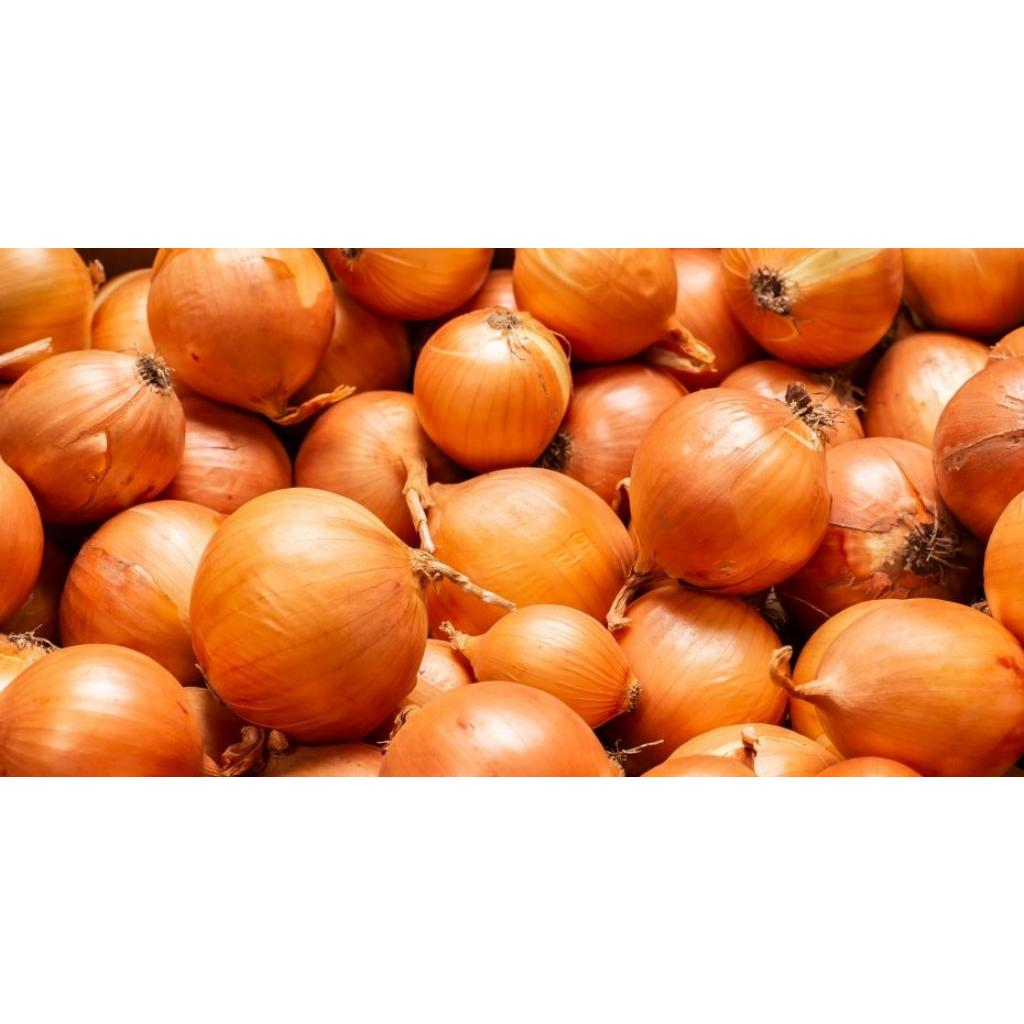Onion: (190, 487, 516, 742), (608, 384, 835, 630), (775, 599, 1024, 777), (778, 436, 984, 631), (146, 247, 356, 424), (609, 584, 789, 774), (427, 466, 636, 622), (1, 348, 184, 523), (59, 499, 226, 686), (0, 644, 203, 777), (414, 304, 573, 472), (513, 247, 718, 371), (443, 604, 642, 728), (381, 681, 622, 777), (295, 389, 434, 551), (534, 362, 689, 506), (722, 247, 904, 366), (936, 354, 1024, 539), (160, 395, 290, 512), (864, 330, 990, 447), (673, 247, 766, 389), (673, 247, 766, 389), (325, 248, 494, 318), (905, 247, 1024, 334), (0, 247, 94, 352), (1, 457, 42, 621), (985, 491, 1024, 643)
